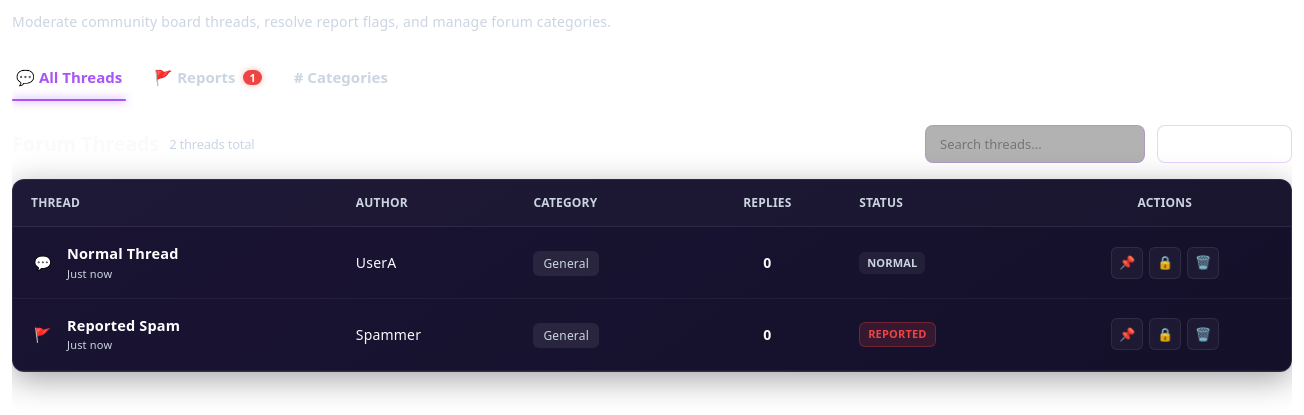
Test: Forum Moderation - Testing Techniques › 1. Equivalence Class Partitioning (ECP): Search Filter › shows matching threads for valid search (Valid EC)
Check: the text "Normal Thread" is shown, box [67,243,179,264]
Step 1. Type "Spam" into the field with placeholder "Search threads..." → point(1035, 144), box [925,125,1145,163]
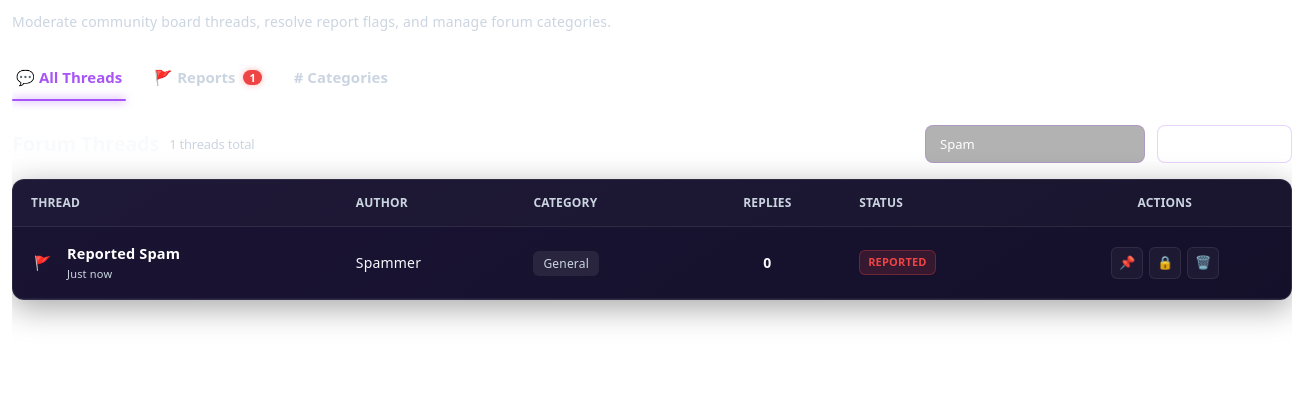
Check: the text "Reported Spam" is shown, box [67,243,180,264]
Check: the text "Normal Thread" is gone
